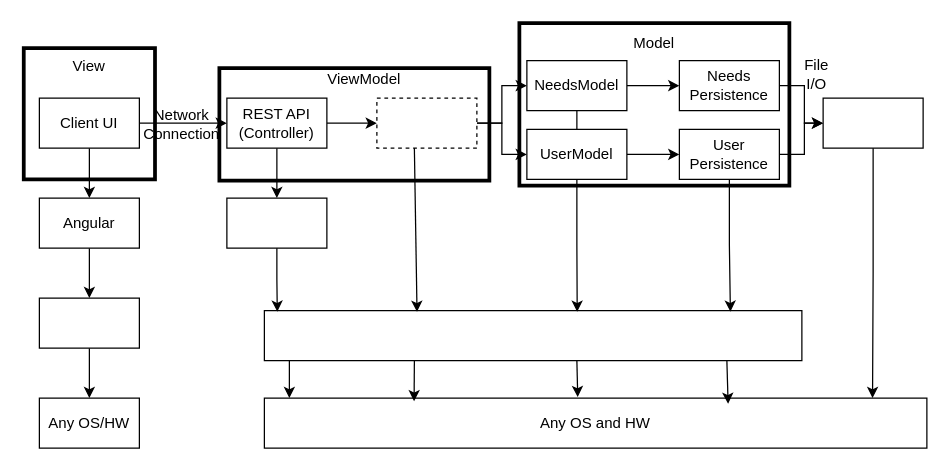
This 949x470 diagram has some shape labels left out. Here are the shapes that lost their labels. From the top down, the centre of each, then its label:
At point (426, 122): "Service".
At point (872, 122): "Storage".
At point (276, 222): "Spring".
At point (88, 322): "Any Browser".
At point (532, 335): "Java".
